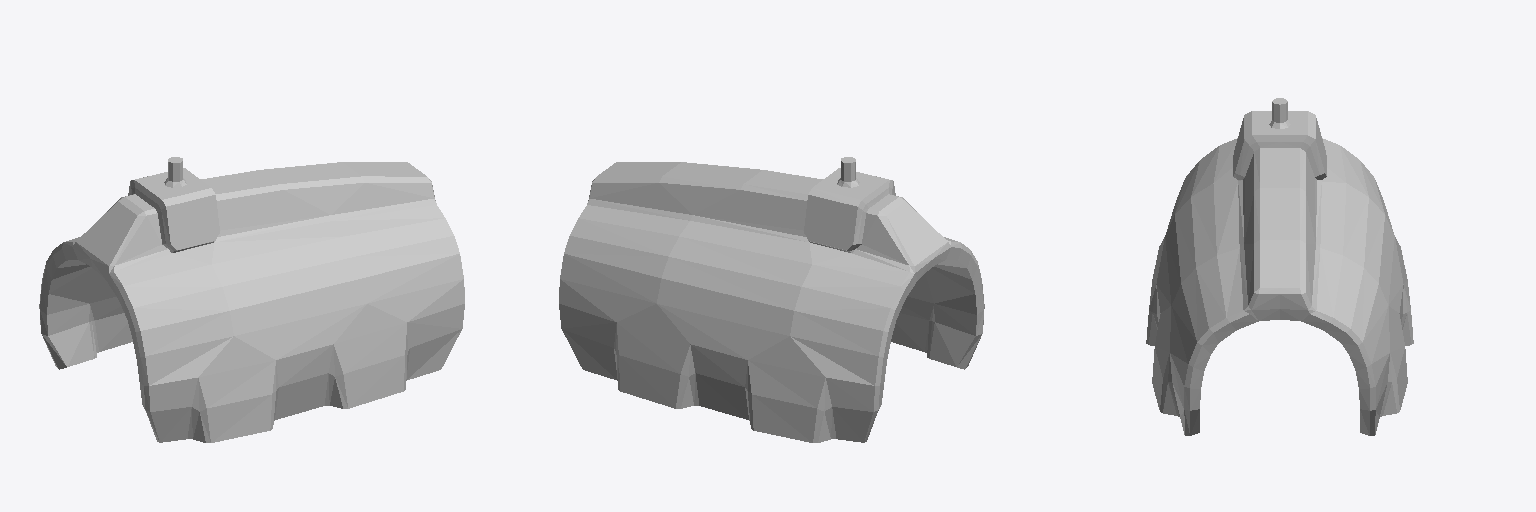
File: AssaultRifles_Vladof_Barrel_Bezoomy_Acc_2.obj
The picture shows the model from 3 angles: view 1: azimuth 30°, elevation 25°; view 2: azimuth 150°, elevation 25°; view 3: azimuth 270°, elevation 25°; orthographic projection.
Parts seen in each view (by area): view 1: SK_AR_VLA.219; view 2: SK_AR_VLA.219; view 3: SK_AR_VLA.219.
Boxes of the visible parts, x1=… form: SK_AR_VLA.219: x1=39, y1=157, x2=464, y2=442; SK_AR_VLA.219: x1=559, y1=157, x2=984, y2=442; SK_AR_VLA.219: x1=1146, y1=98, x2=1413, y2=435.
Bounding box in the file's own units: 12.37 × 8.26 × 8.67.